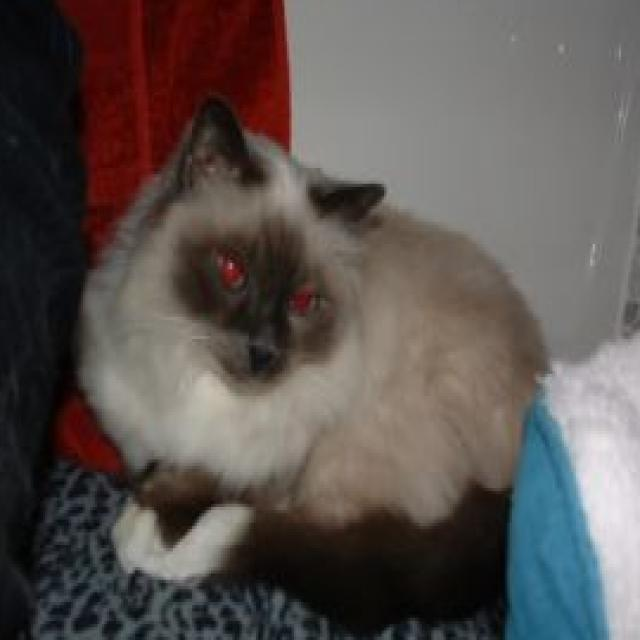Birman: (64, 88, 556, 640)
